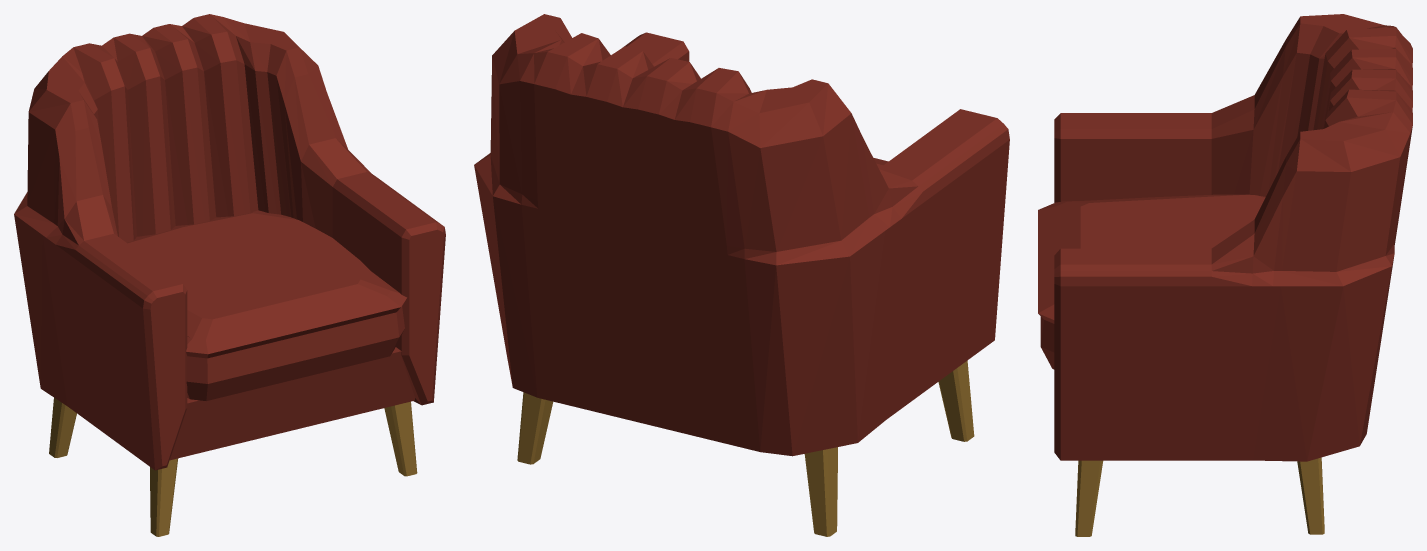
File: velvet-tub-chair-b0b5f8.glb
3 views of the same model, side by side, from view 1: azimuth 30°, elevation 25°; view 2: azimuth 150°, elevation 25°; view 3: azimuth 270°, elevation 25° (orthographic). The views are drawn at different scales.
Parts seen in each view (by area): view 1: chair-body; view 2: chair-body; view 3: chair-body.
Part boxes in pixels (x1=…): chair-body: x1=14, y1=14, x2=445, y2=536; chair-body: x1=474, y1=14, x2=1009, y2=536; chair-body: x1=1038, y1=14, x2=1412, y2=536.
Bounding box in the file's own units: 0.75 × 0.87 × 0.7327.
